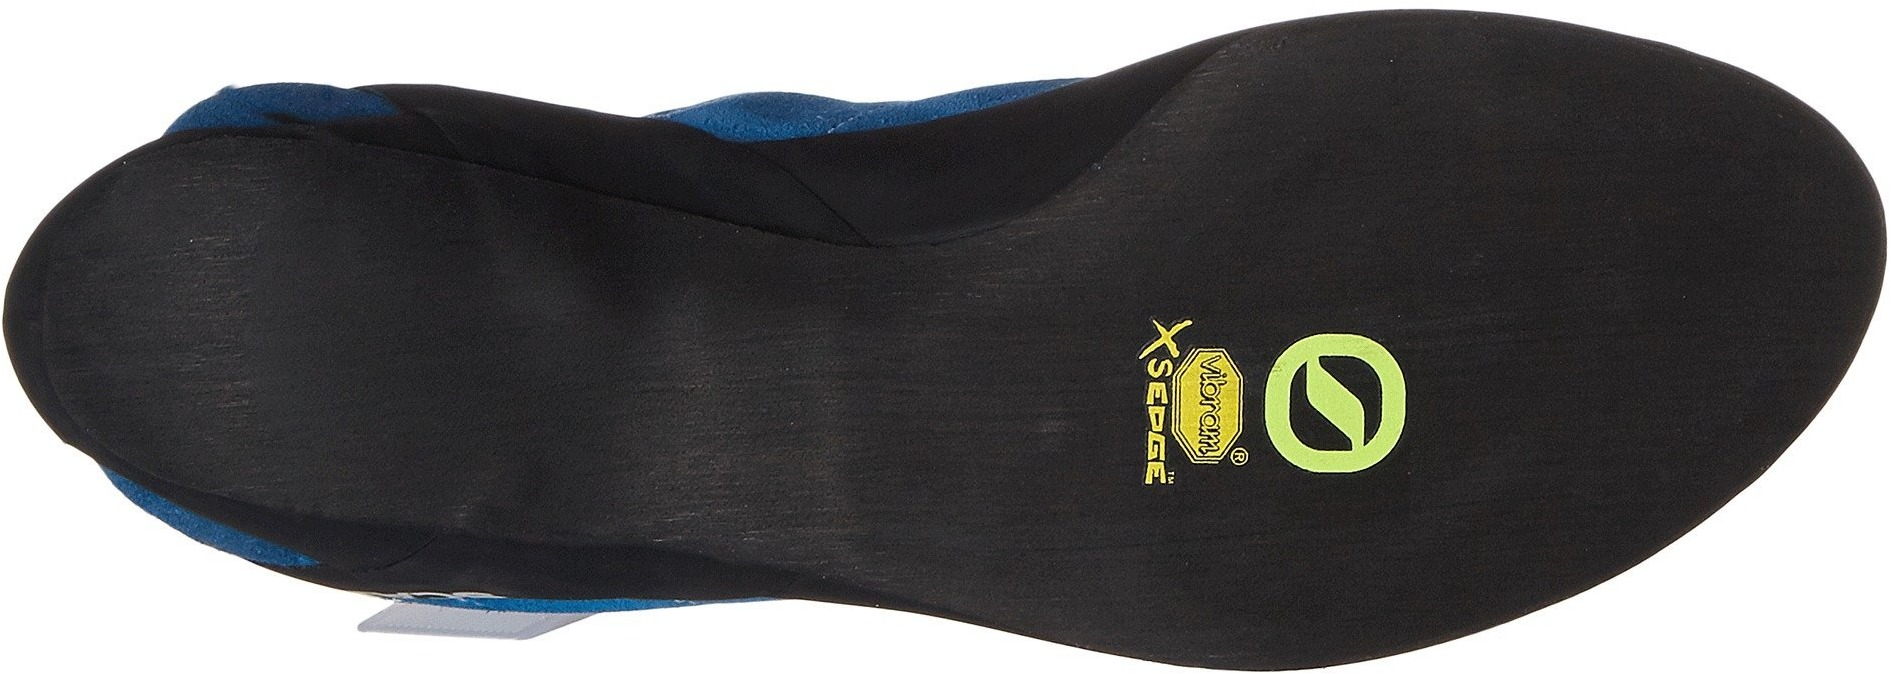other: (1412, 76, 1786, 441), (773, 276, 1101, 584), (444, 234, 740, 524), (116, 219, 431, 480), (1172, 99, 1392, 275), (1204, 487, 1411, 656), (1444, 458, 1580, 590)
text: (1126, 316, 1261, 471)
